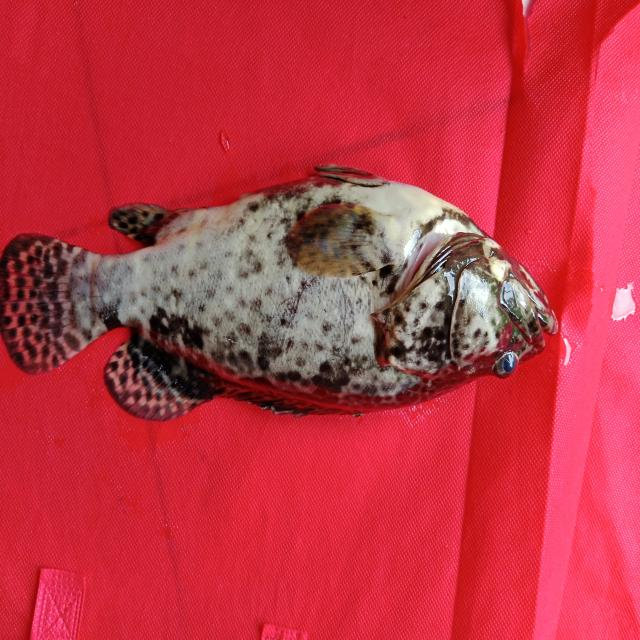ikan: (14, 156, 574, 448)
